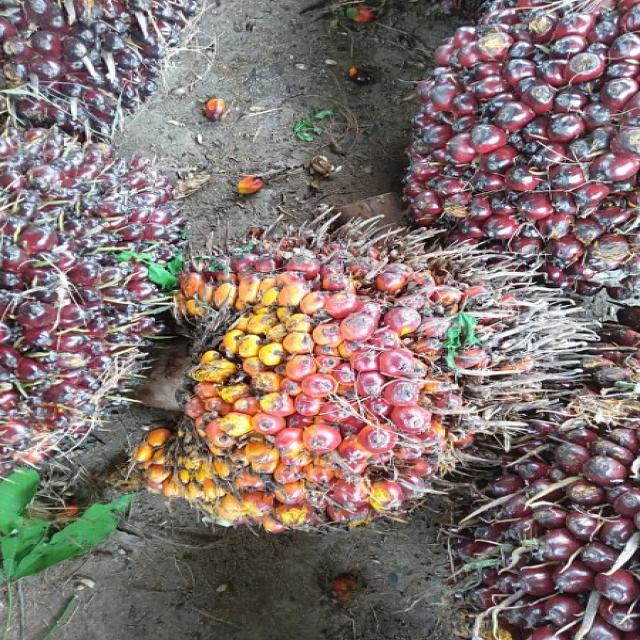fraksi 3: (116, 177, 582, 589)
